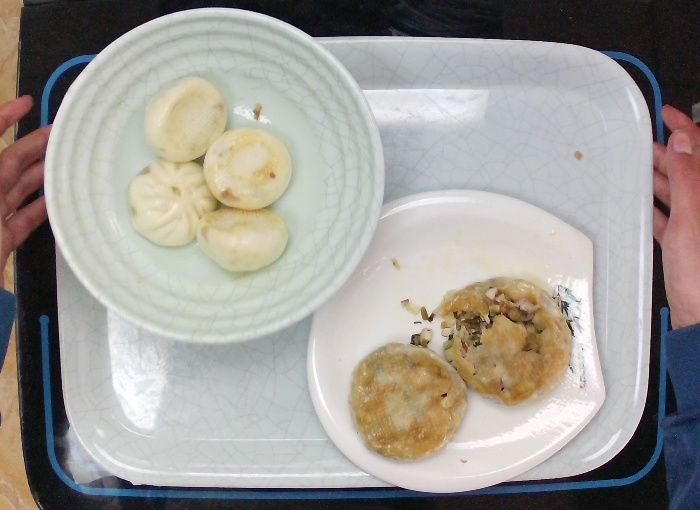JYsf-Da_Tang_Wan: (41, 4, 387, 347)
JYsf-Mian_Pan: (304, 185, 609, 495)
